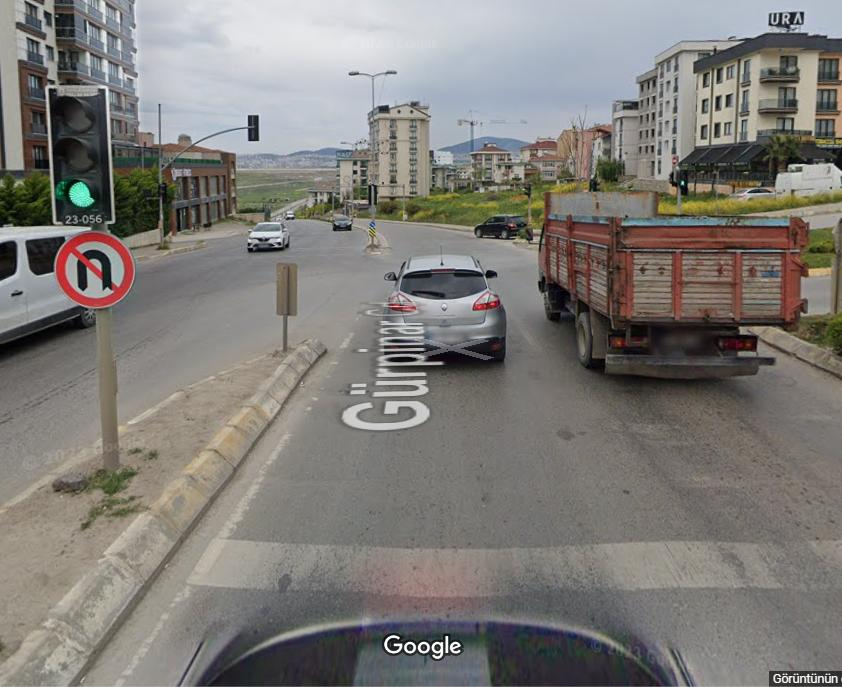greenlight: (37, 79, 124, 230)
